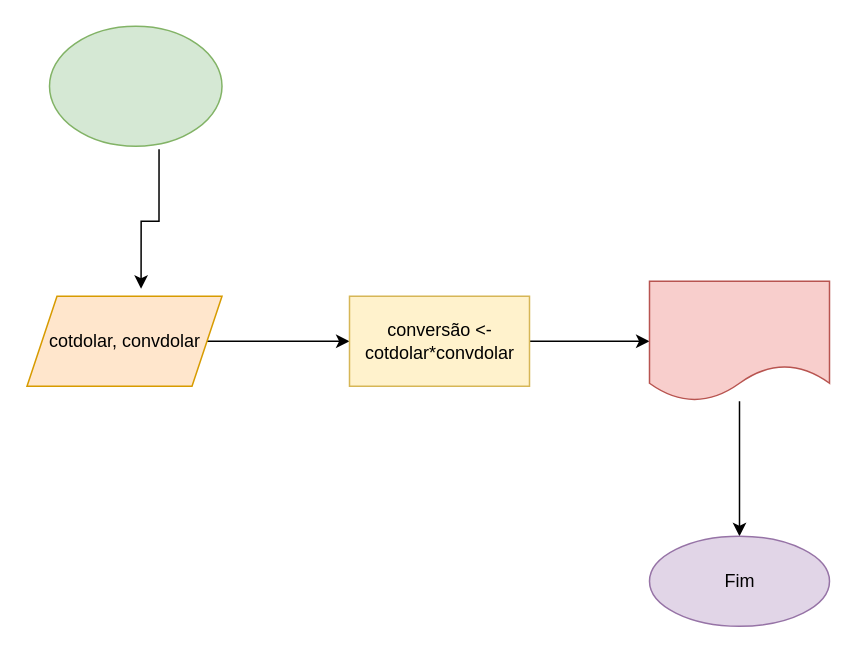
The diagram is 855 pixels wide and 653 high, and some of its shapes have lost their labels. The shapes that lost their labels are listed below. From the top down, each one's centre as x and y in pixels, then its label:
At pixel 135 85: "Início".
At pixel 739 340: "conversão".
